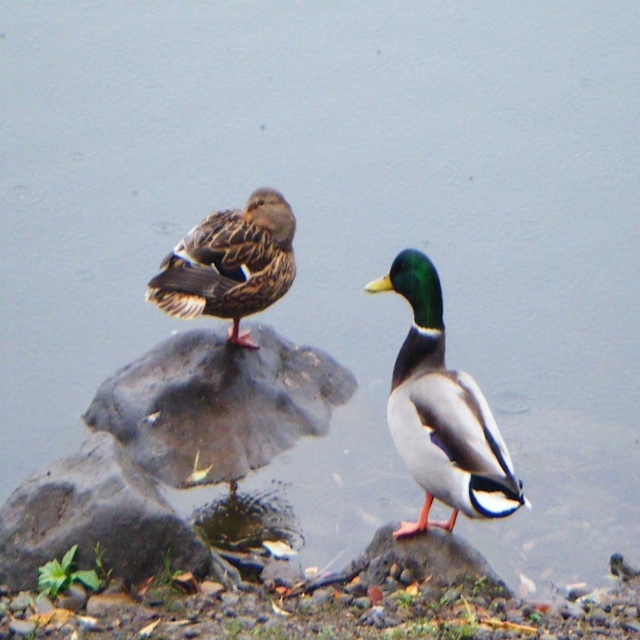Duck: (361, 239, 535, 559), (144, 184, 300, 340)
